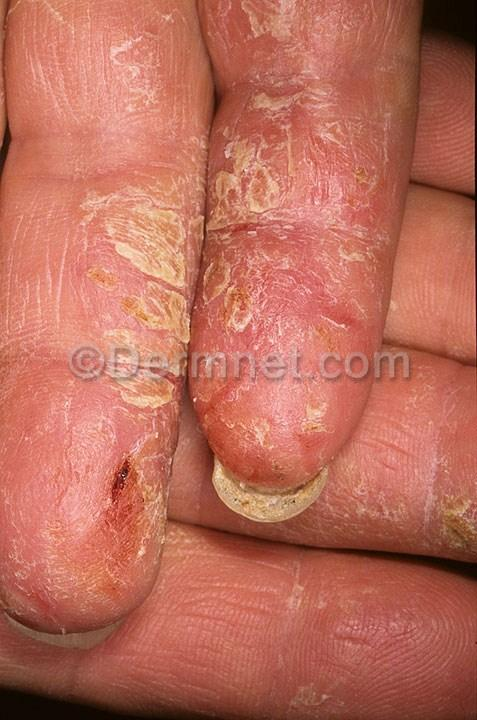Eczema: (195, 196, 355, 408), (228, 0, 378, 194), (55, 158, 193, 336), (47, 314, 178, 496), (385, 449, 477, 564), (60, 492, 164, 591)
